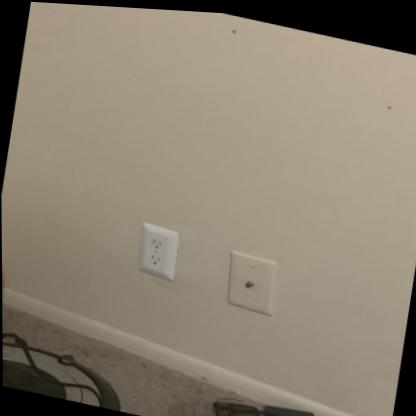OUTLET: (134, 220, 183, 283)
